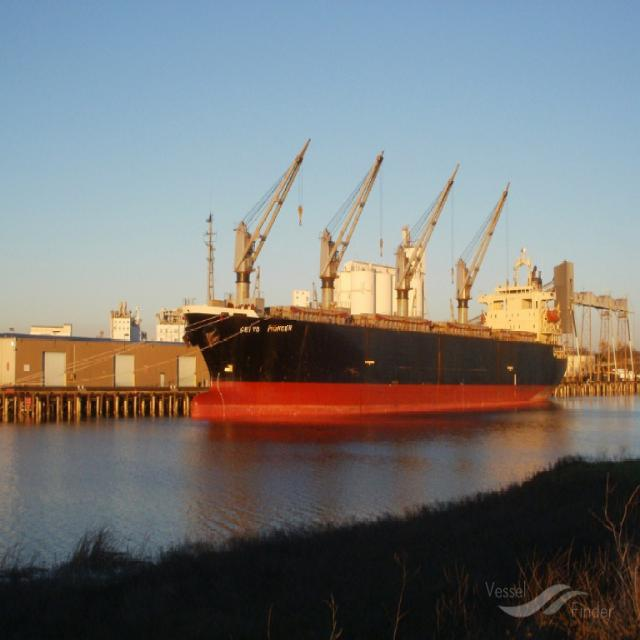OCR: (237, 320, 296, 349)
